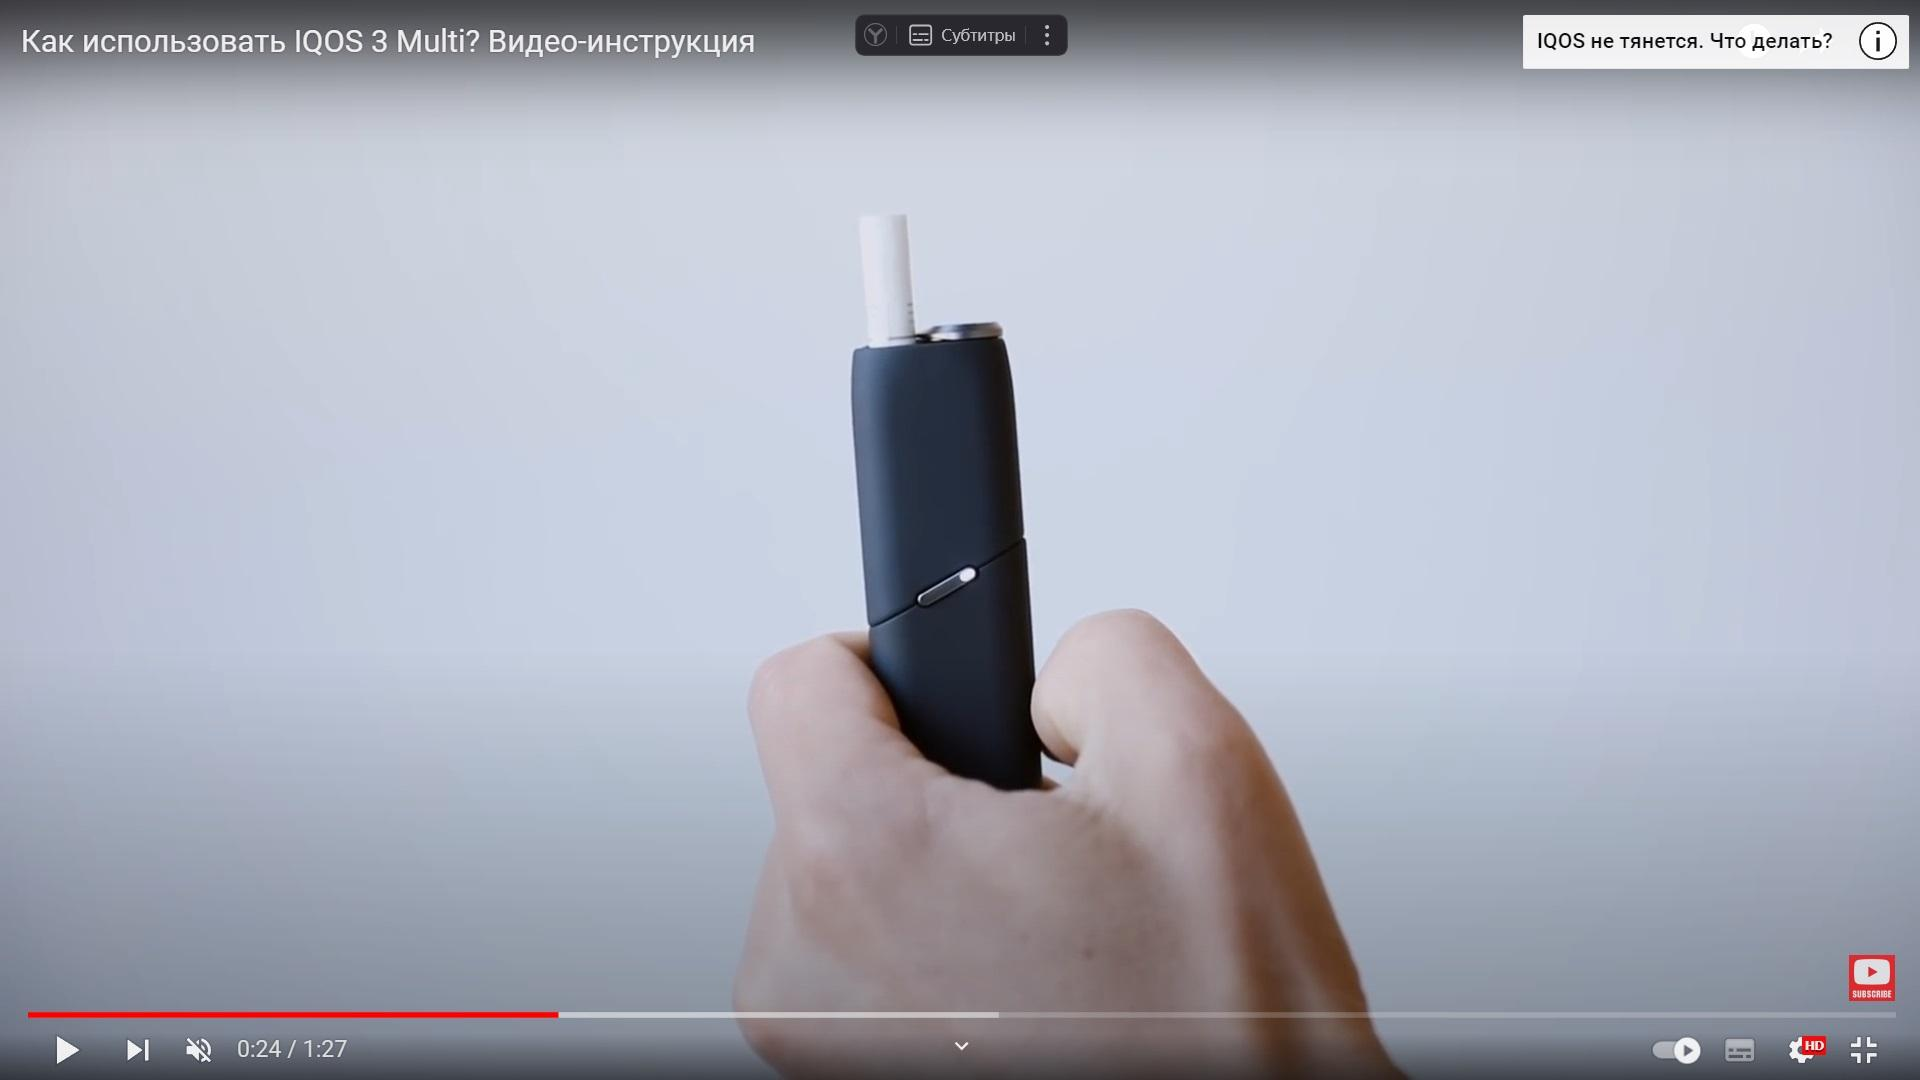iqos: (851, 215, 1040, 787)
